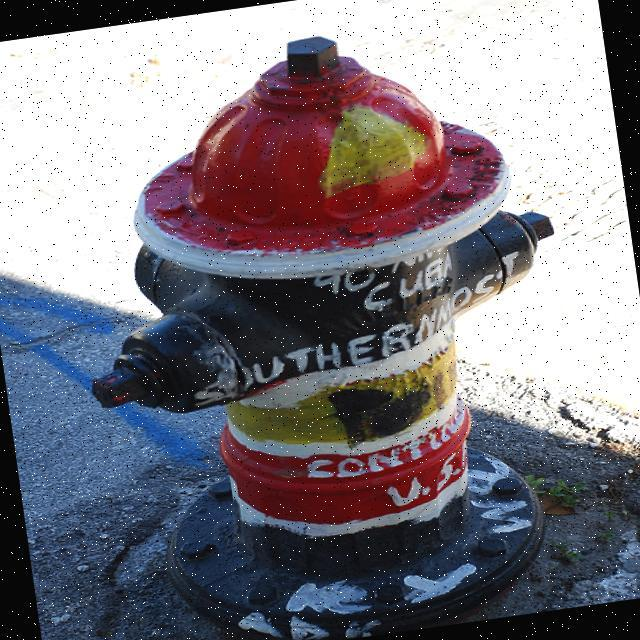fire_hydrant: (44, 11, 606, 640)
